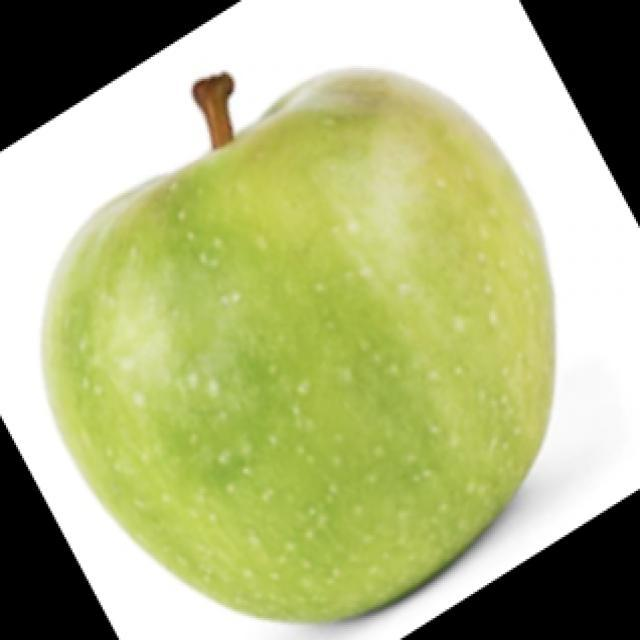Fresh Apple: (41, 63, 560, 635)
